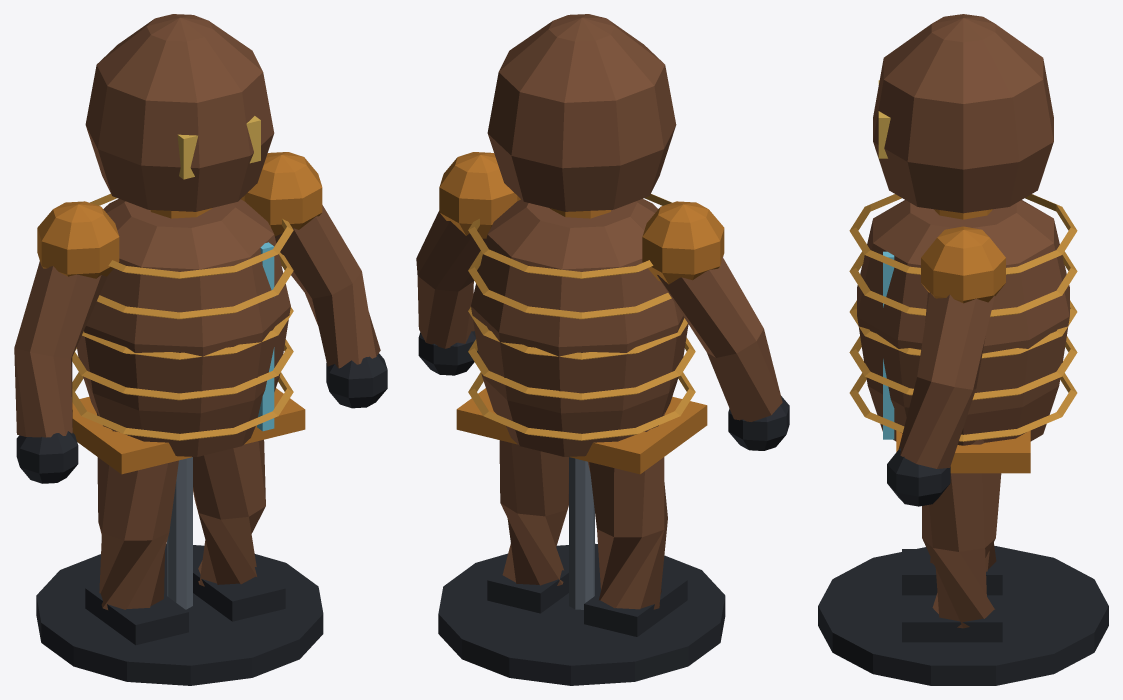
The model's file is conductive-suit.glb.
3 views of the same model, side by side, from view 1: azimuth 30°, elevation 25°; view 2: azimuth 150°, elevation 25°; view 3: azimuth 270°, elevation 25° (orthographic).
Parts seen in each view (by area): view 1: m; view 2: m; view 3: m.
Boxes of the visible parts, x1,y1,x2,y2 form: m: [14, 14, 387, 685]; m: [416, 14, 789, 685]; m: [818, 14, 1108, 685].
Bounding box in the file's own units: 0.352 × 0.56 × 0.2426.
